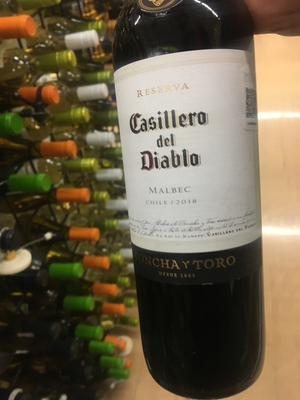casillero del diablo malbec: (104, 6, 293, 400)
